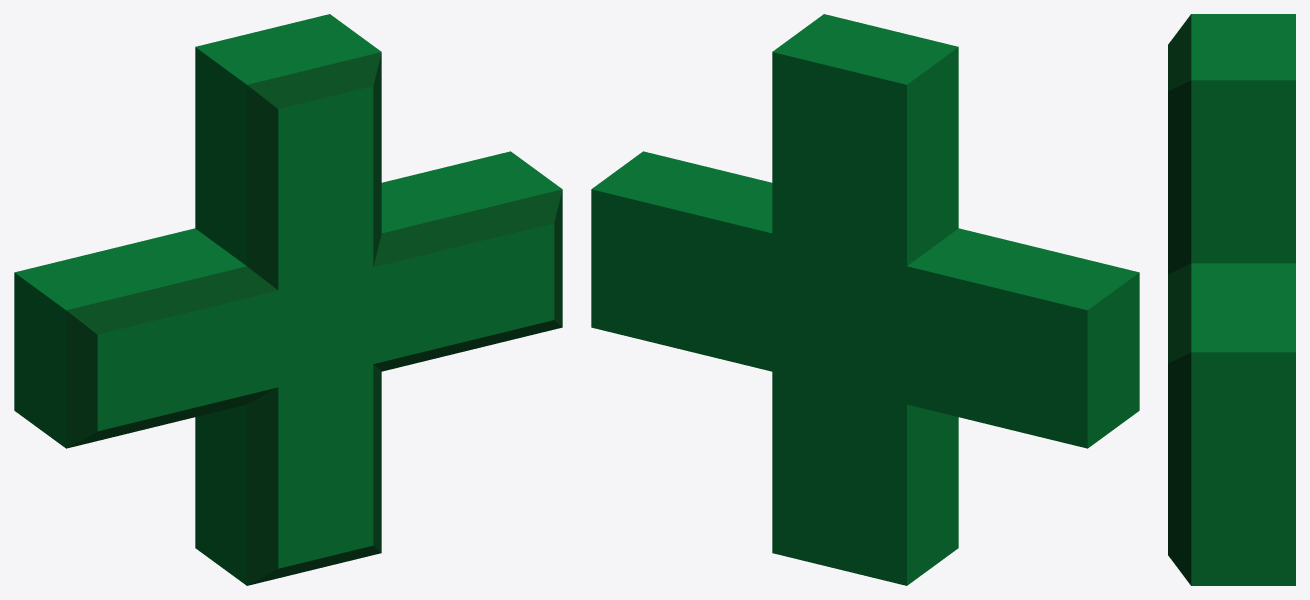
File: Plus.fbx
3 views of the same model, side by side, from view 1: azimuth 30°, elevation 25°; view 2: azimuth 150°, elevation 25°; view 3: azimuth 270°, elevation 25° (orthographic).
Parts seen in each view (by area): view 1: Plus; view 2: Plus; view 3: Plus.
Boxes of the visible parts, x1,y1,x2,y2 form: Plus: (14, 14, 562, 585); Plus: (591, 14, 1139, 585); Plus: (1168, 14, 1295, 585).
Bounding box in the file's own units: 1.13 × 1.09 × 0.2499.
